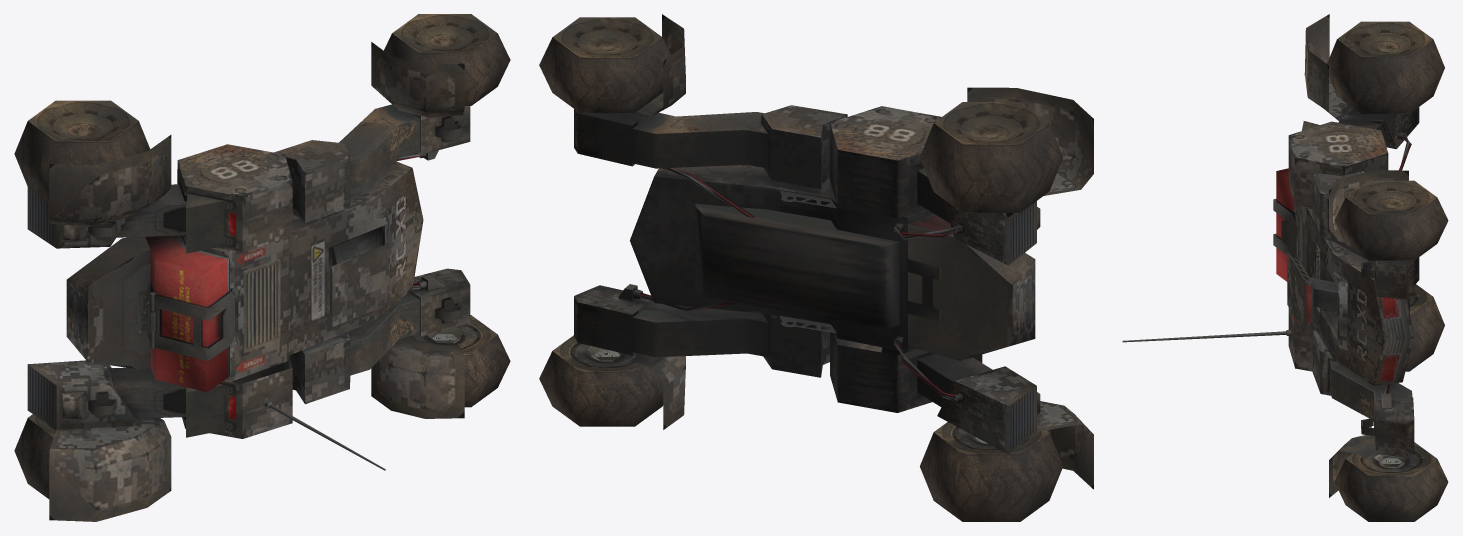
The model's file is veh_t6_drone_rcxd_alt_LOD2.obj.
3 views of the same model, side by side, from view 1: azimuth 30°, elevation 25°; view 2: azimuth 150°, elevation 25°; view 3: azimuth 270°, elevation 25° (orthographic). The views are drawn at different scales.
Visible parts, largest first — view 1: mtl_veh_t6_rcxd_alt, mtl_veh_t6_rcxd_extra_bits_alt, mtl_veh_t6_rcxd_wheels_alt; view 2: mtl_veh_t6_rcxd_alt, mtl_veh_t6_rcxd_wheels_alt, mtl_veh_t6_rcxd_extra_bits_alt; view 3: mtl_veh_t6_rcxd_alt, mtl_veh_t6_rcxd_wheels_alt, mtl_veh_t6_rcxd_extra_bits_alt.
Part boxes in pixels (x1,y1,x2,y2): mtl_veh_t6_rcxd_alt: [110, 104, 470, 470]; mtl_veh_t6_rcxd_extra_bits_alt: [27, 42, 464, 521]; mtl_veh_t6_rcxd_wheels_alt: [14, 14, 510, 498]; mtl_veh_t6_rcxd_alt: [574, 105, 1002, 412]; mtl_veh_t6_rcxd_wheels_alt: [539, 17, 1063, 521]; mtl_veh_t6_rcxd_extra_bits_alt: [613, 14, 1093, 489]; mtl_veh_t6_rcxd_alt: [1122, 109, 1414, 466]; mtl_veh_t6_rcxd_wheels_alt: [1327, 21, 1448, 521]; mtl_veh_t6_rcxd_extra_bits_alt: [1302, 14, 1419, 497].
Size of the model in its own units: 91.76 by 66.18 by 62.1.
